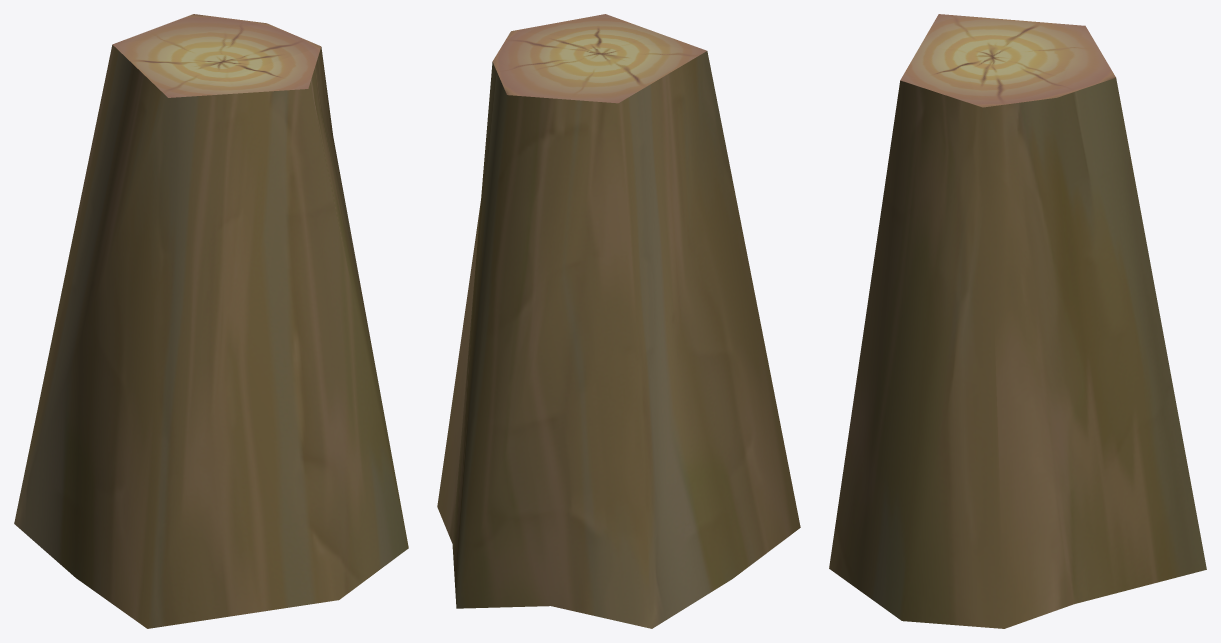
Rendered from m_env_collect_tree_cedar_stump_02_v1_lod2.fbx.
3 renders of one model, left to right at view 1: azimuth 30°, elevation 25°; view 2: azimuth 150°, elevation 25°; view 3: azimuth 270°, elevation 25°, orthographic.
Parts seen in each view (by area): view 1: m_env_collect_tree_cedar_stump_02_v1_lod2; view 2: m_env_collect_tree_cedar_stump_02_v1_lod2; view 3: m_env_collect_tree_cedar_stump_02_v1_lod2.
Boxes of the visible parts, x1,y1,x2,y2 form: m_env_collect_tree_cedar_stump_02_v1_lod2: [14, 14, 408, 628]; m_env_collect_tree_cedar_stump_02_v1_lod2: [437, 14, 800, 628]; m_env_collect_tree_cedar_stump_02_v1_lod2: [829, 14, 1206, 628].
Bounding box in the file's own units: 58.37 × 92.3 × 63.55.
